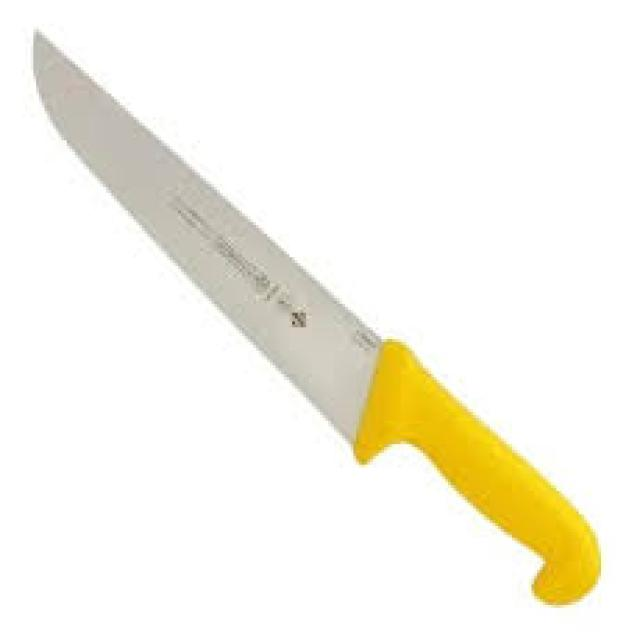knife: (31, 29, 601, 611)
